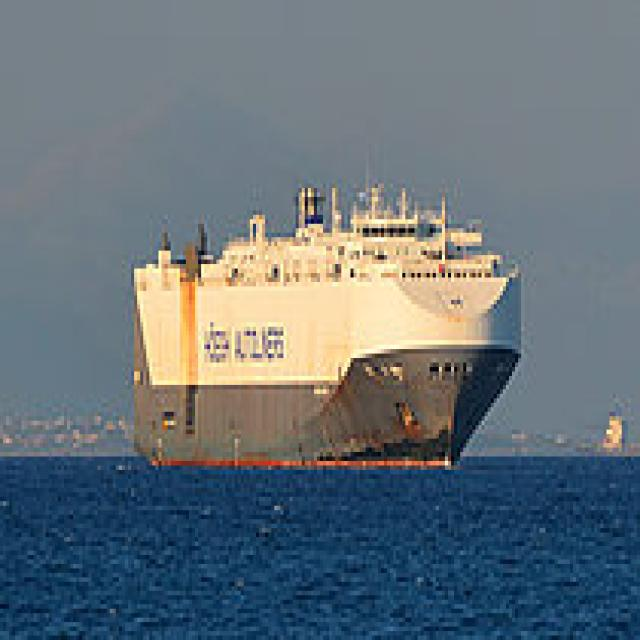Carrier: (125, 170, 524, 466)
